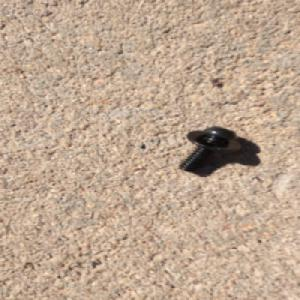BoltWasher: (178, 125, 244, 171)
